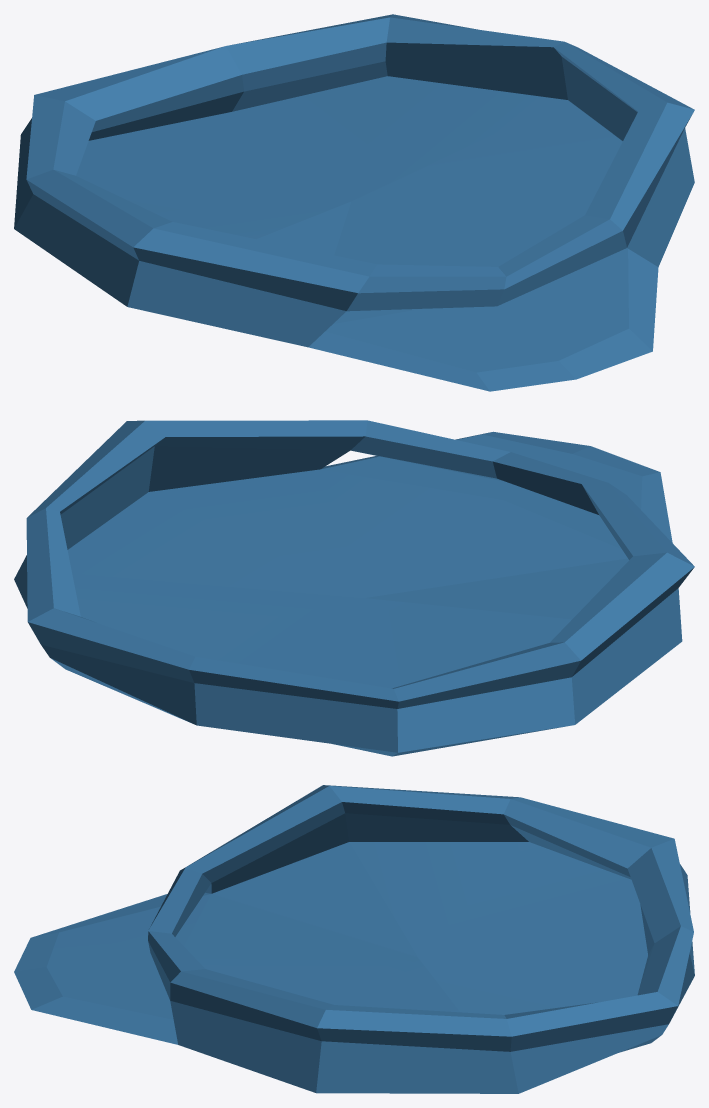
The model's file is apocalypse_pool-inflatable-broken.fbx.
3 views of the same model, one above another, from view 1: azimuth 30°, elevation 25°; view 2: azimuth 150°, elevation 25°; view 3: azimuth 270°, elevation 25° (orthographic). The views are drawn at different scales.
Parts seen in each view (by area): view 1: apocalypse_pool_inflatable_broken; view 2: apocalypse_pool_inflatable_broken; view 3: apocalypse_pool_inflatable_broken.
Part boxes in pixels (<box>): apocalypse_pool_inflatable_broken: <box>14,14,694,391</box>; apocalypse_pool_inflatable_broken: <box>14,420,694,756</box>; apocalypse_pool_inflatable_broken: <box>14,785,694,1093</box>.
Bounding box in the file's own units: 172 × 25.41 × 200.
